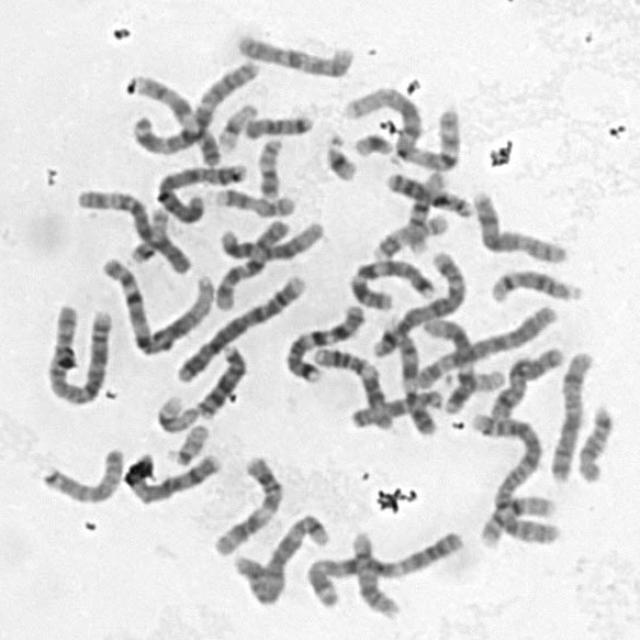A1: (95, 252, 218, 356), (340, 79, 466, 175)
A2: (468, 409, 558, 547), (40, 298, 115, 407)
A3: (300, 524, 468, 612), (128, 53, 262, 157)
B4: (169, 269, 310, 385), (152, 157, 249, 225)
B5: (367, 245, 471, 359), (230, 508, 332, 608)
C10: (211, 214, 291, 312), (232, 29, 356, 79)
C11: (208, 449, 288, 558), (307, 341, 393, 431)
C12: (420, 312, 478, 417), (215, 215, 326, 263)
C6: (414, 299, 560, 392), (72, 183, 196, 276)
C7: (282, 299, 369, 385), (346, 252, 439, 311)
C8: (470, 185, 571, 266), (122, 446, 225, 506)
C9: (126, 72, 222, 167), (380, 314, 439, 438)
D13: (381, 167, 474, 219), (194, 338, 252, 420)
D14: (343, 524, 403, 622), (486, 264, 584, 305)
D15: (37, 441, 126, 507), (348, 385, 447, 430)
E16: (476, 492, 561, 548), (404, 167, 448, 256)
E17: (368, 208, 451, 262), (208, 181, 298, 219)
E18: (573, 400, 616, 484), (240, 109, 315, 141)
F19: (213, 96, 260, 153), (151, 392, 201, 434)
F20: (126, 205, 170, 265), (252, 133, 286, 200)
G21: (321, 128, 359, 182), (350, 126, 399, 158)
G22: (163, 419, 212, 467), (440, 364, 506, 393)
X: (548, 344, 597, 484), (485, 341, 568, 422)
